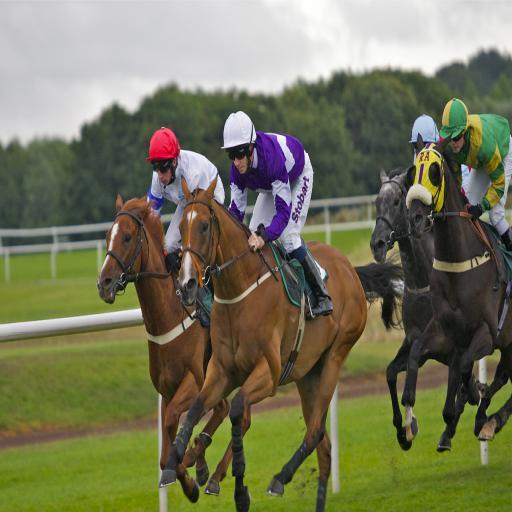horse: (156, 174, 412, 512), (94, 192, 254, 496), (406, 133, 512, 442), (368, 164, 474, 452)
